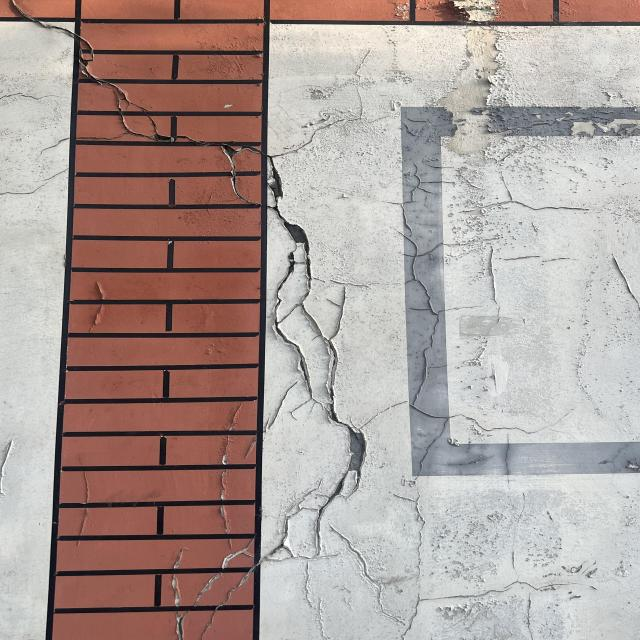crack: (5, 8, 601, 637)
spalling: (408, 27, 536, 173)
